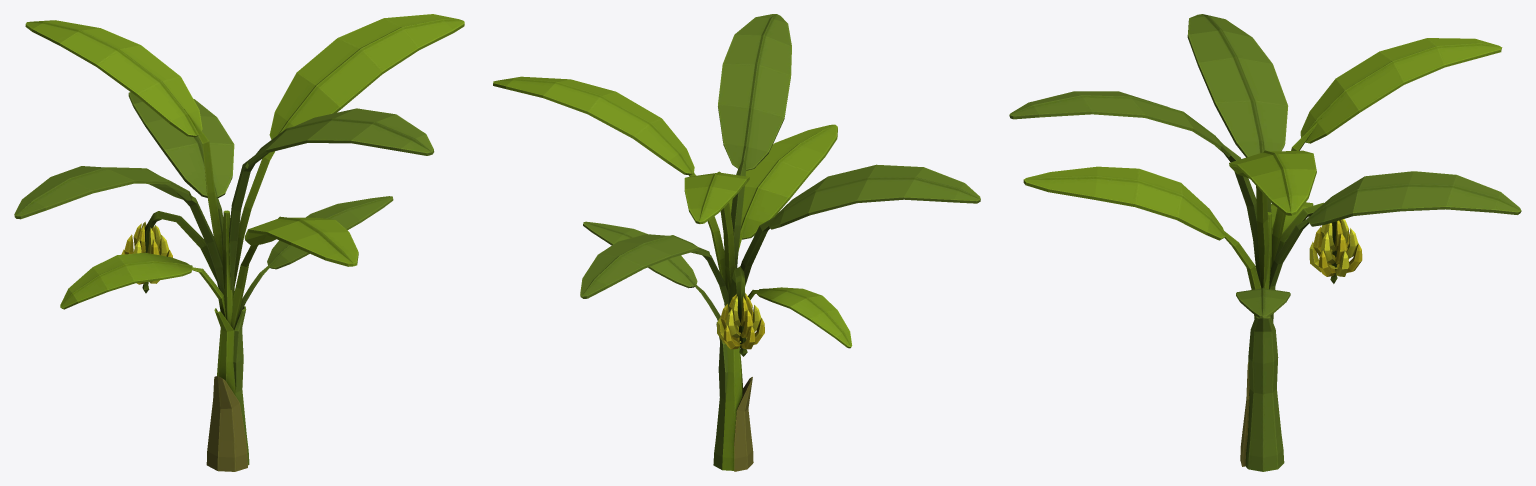
Rendered from banana-tree.glb.
3 renders of one model, left to right at view 1: azimuth 30°, elevation 25°; view 2: azimuth 150°, elevation 25°; view 3: azimuth 270°, elevation 25°, orthographic. The views are drawn at different scales.
Visible parts, largest first — view 1: BananaTree_mesh; view 2: BananaTree_mesh; view 3: BananaTree_mesh.
Boxes of the visible parts, left/top/right/bottom form: BananaTree_mesh: left=14, top=14, right=464, bottom=471; BananaTree_mesh: left=493, top=14, right=980, bottom=471; BananaTree_mesh: left=1009, top=14, right=1521, bottom=471.
Size of the model in its own units: 18.04 by 13.74 by 16.16.
1 material, 1 textured.
